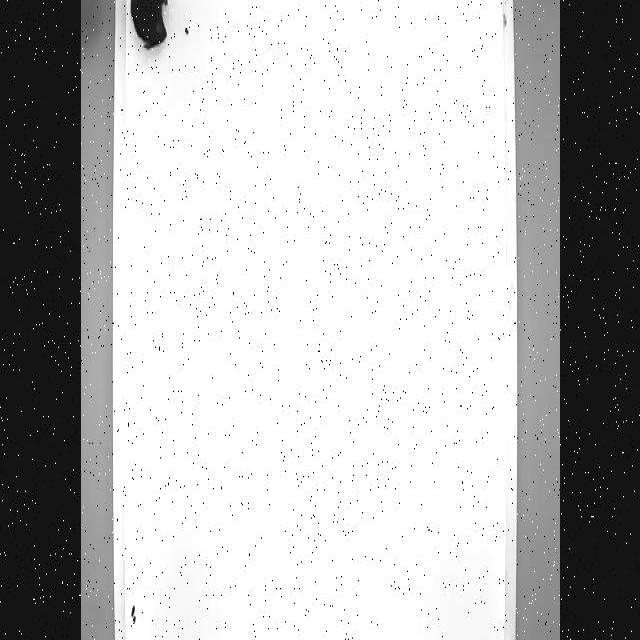rat: (131, 3, 168, 51)
